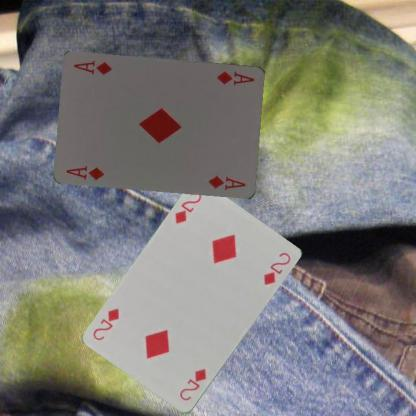2d: (172, 188, 203, 226), (177, 366, 208, 403)
Ad: (214, 68, 256, 87), (64, 162, 106, 181)
